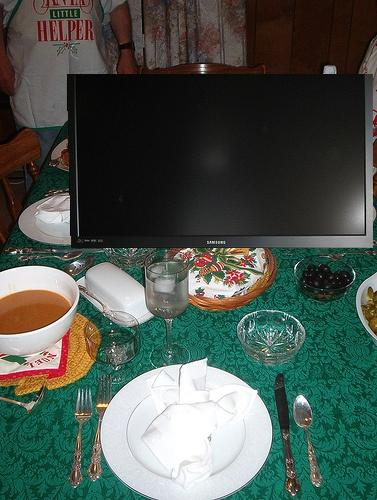tampered: (68, 75, 373, 248)
